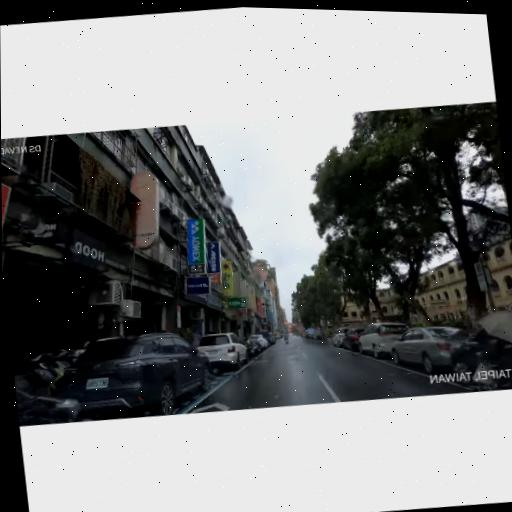Car: (52, 317, 218, 423), (449, 306, 512, 394), (388, 319, 472, 379), (356, 318, 413, 361), (197, 329, 250, 372), (330, 324, 361, 349), (344, 326, 369, 353), (246, 333, 271, 351), (260, 331, 276, 346), (299, 328, 312, 339), (273, 331, 283, 339)
